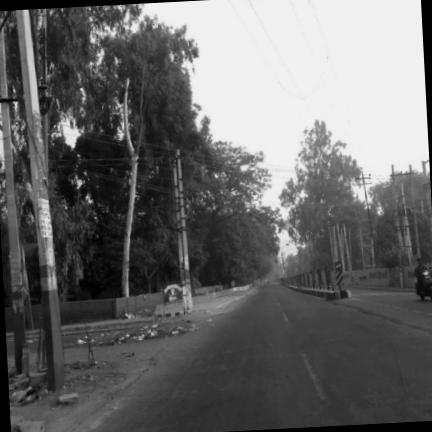Road: (88, 285, 431, 431)
